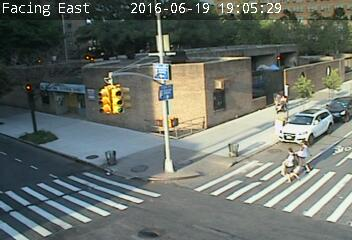neg: (108, 137, 142, 183), (18, 137, 50, 180), (80, 132, 102, 161), (52, 93, 73, 122)
pos: (276, 146, 303, 181), (293, 136, 318, 170), (270, 89, 291, 118)
